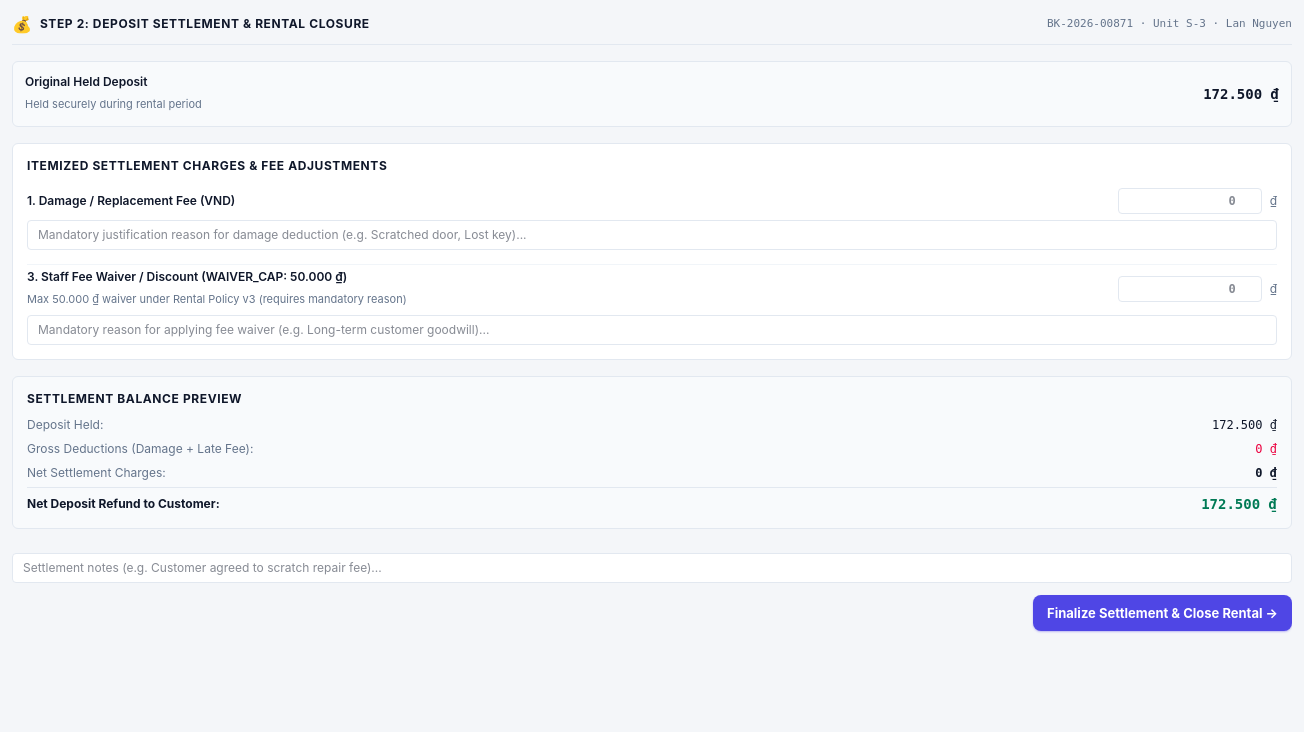
Test: Story 6.4: Settlement waiver trong trần WAIVER_CAP (P2) › finalizes settlement with waiver and displays itemized adjustment on permanent receipt
Type "40000" into the number field with test id "input-damage-fee" at (1190, 201), box [1118,188,1262,214]
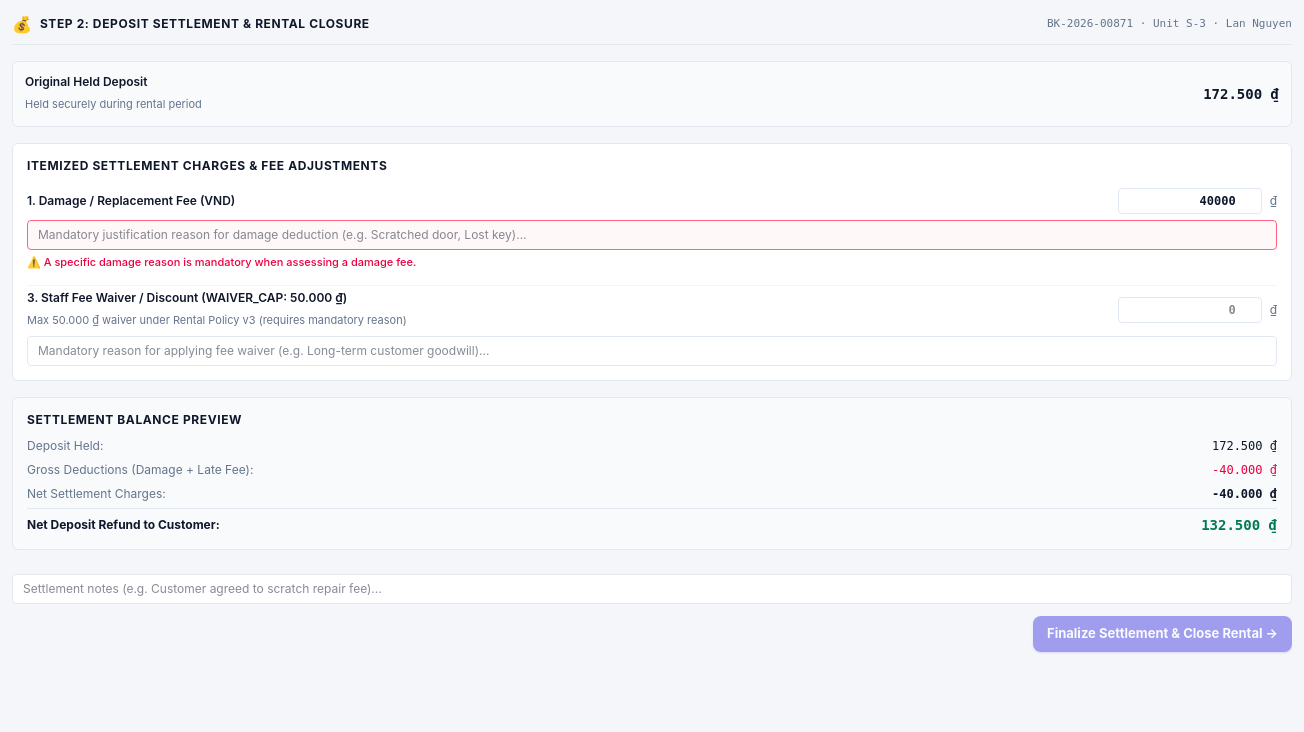
Replace the text in the field with test id "input-damage-reason" with "Lost card badge" at (652, 235), box [27,220,1277,250]
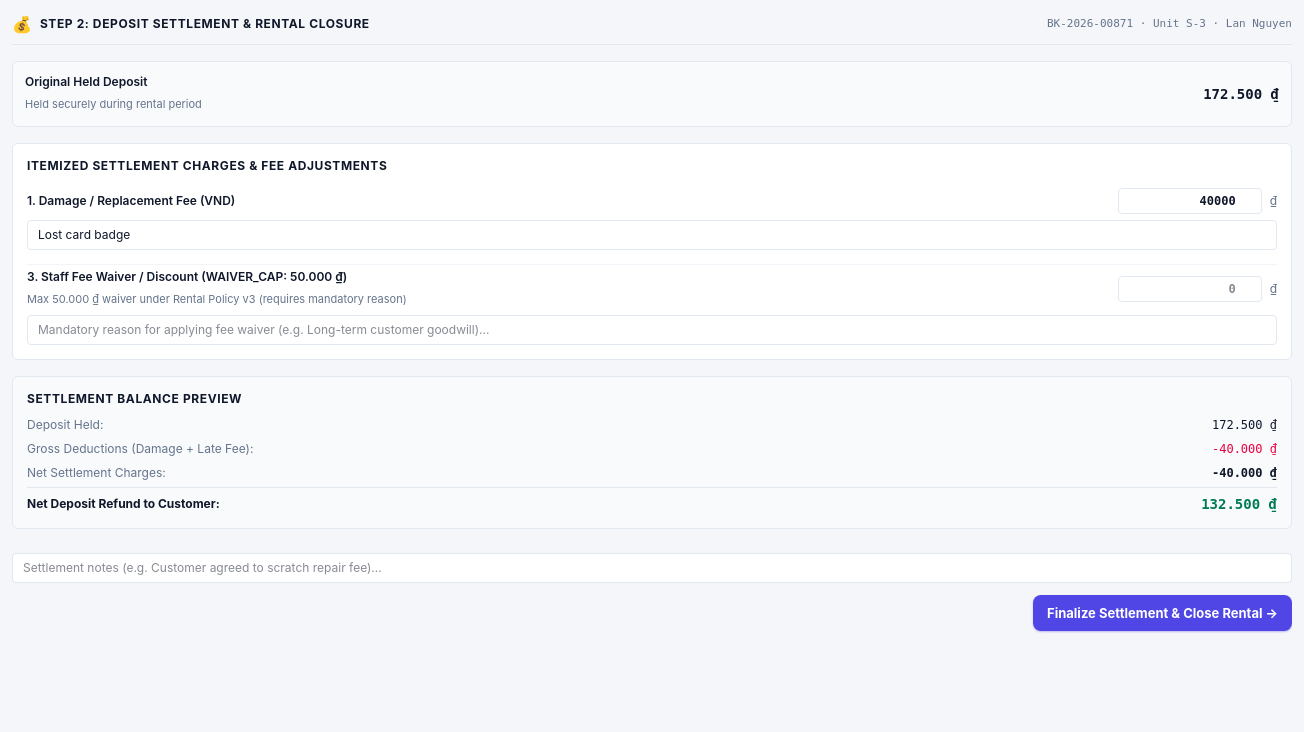
Type "30000" into the number field with test id "input-waiver-amount" at (1190, 289), box [1118,276,1262,302]
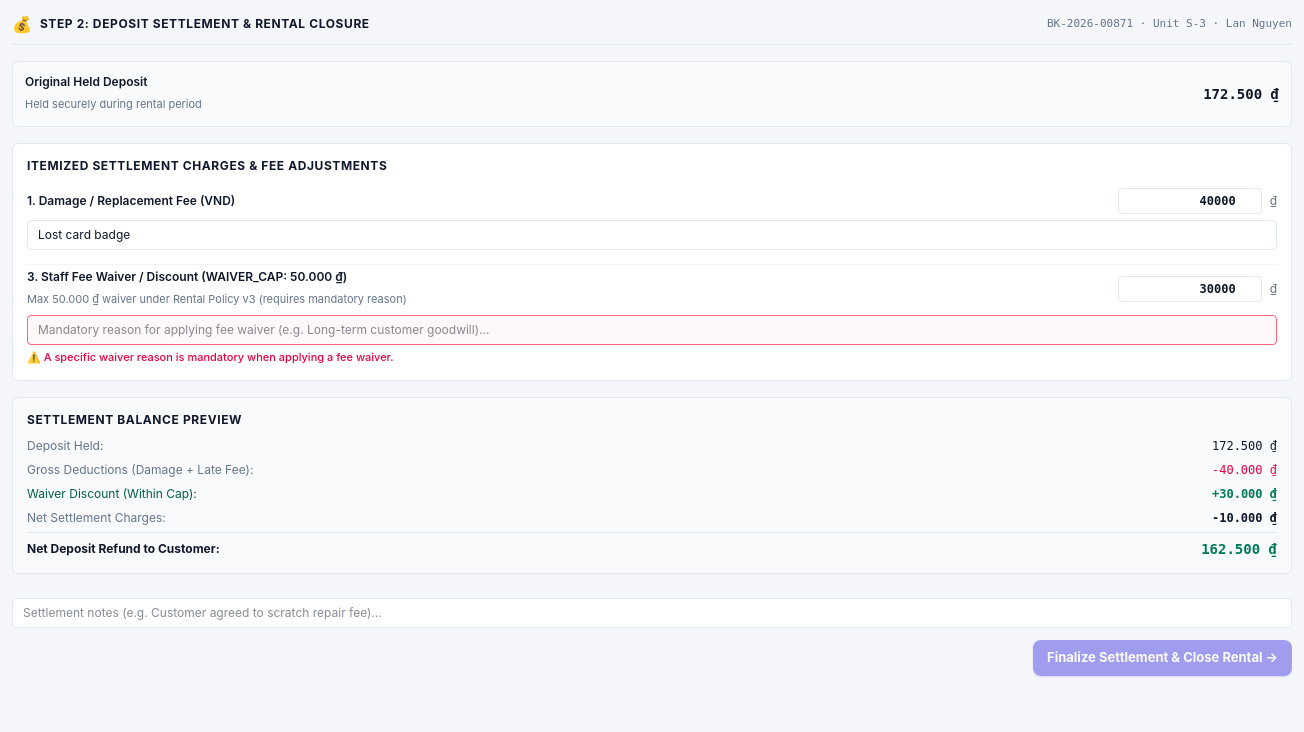
Replace the text in the field with test id "input-waiver-reason" with "6-month loyalty waiver" at (652, 330), box [27,315,1277,345]
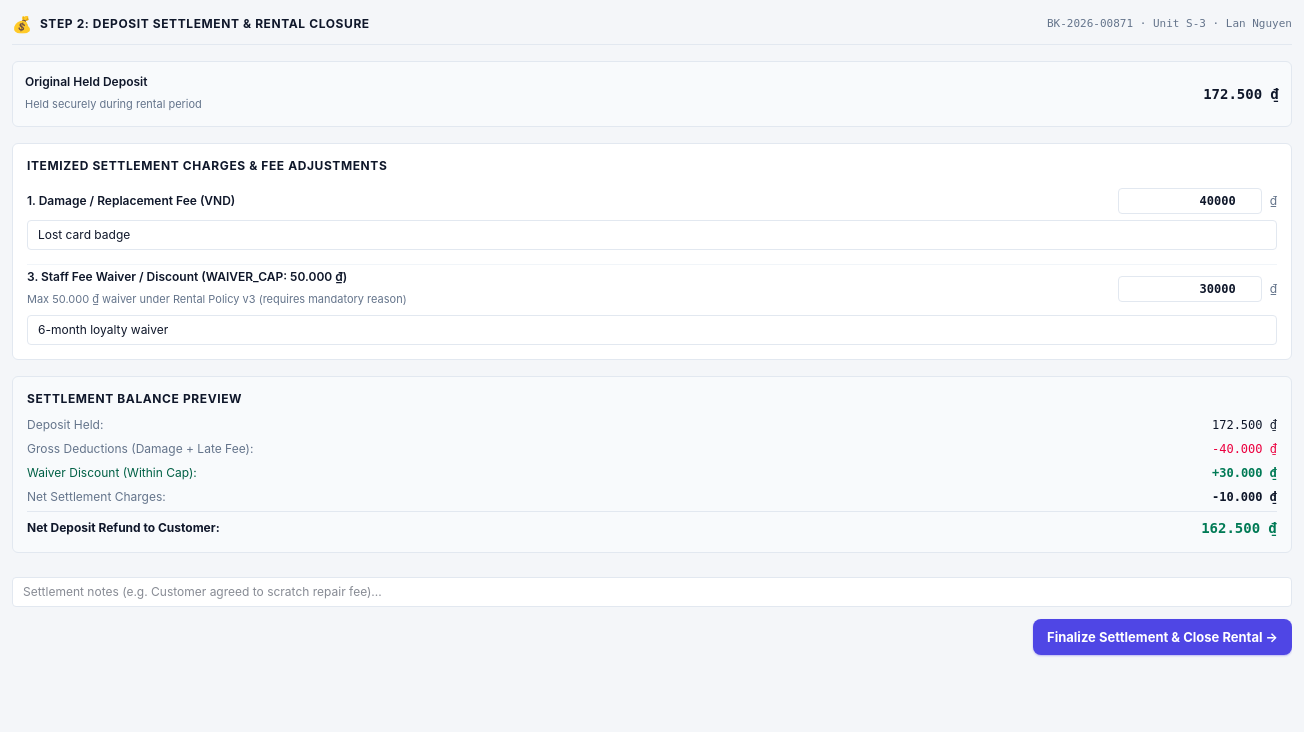
Now the button with test id "btn-finalize-settlement" is enabled
Click the button with test id "btn-finalize-settlement" at (1162, 637), box [1033,619,1292,655]
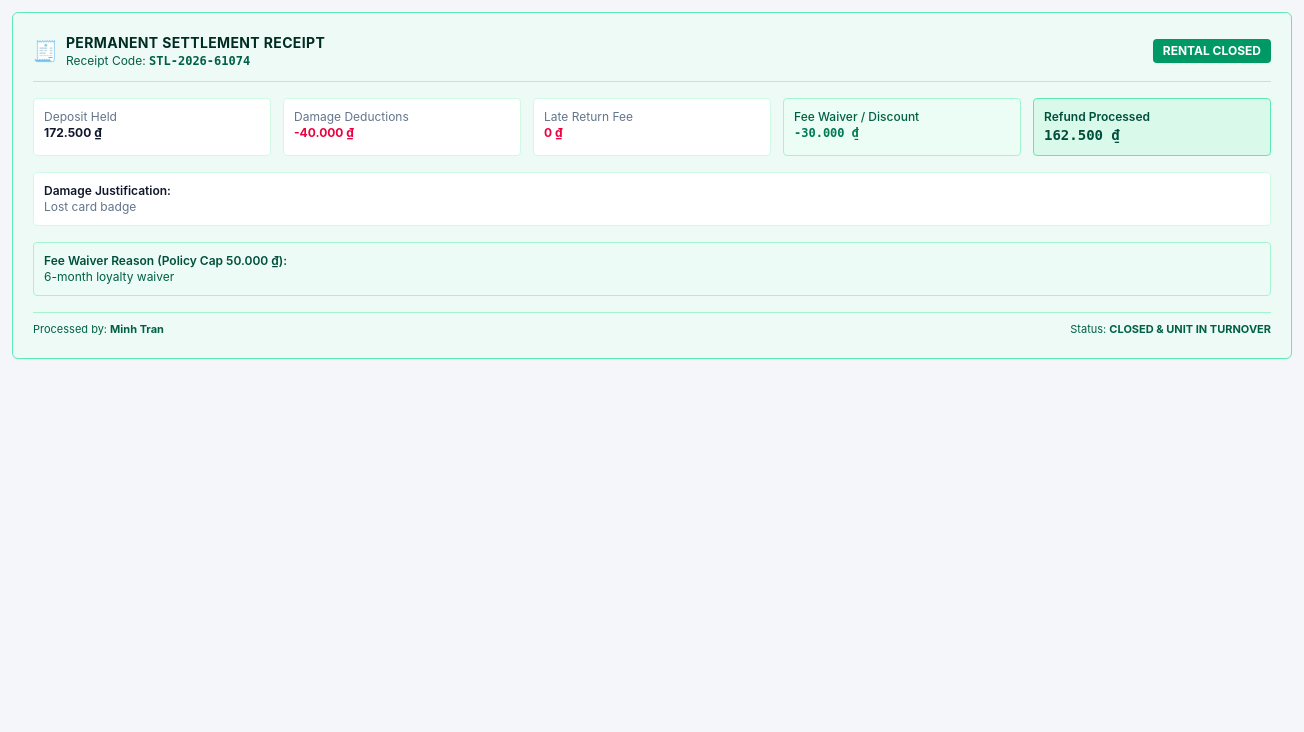
Now the element with test id "settlement-receipt-card" is shown, box [12,12,1292,358]
Now the text with test id "receipt-code" shows "STL-2026-", box [149,54,250,68]
Now the text with test id "receipt-waiver-amount" reads "-30.000 ₫", box [794,126,859,140]
